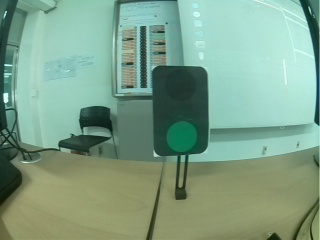green_light: (157, 68, 207, 155)
